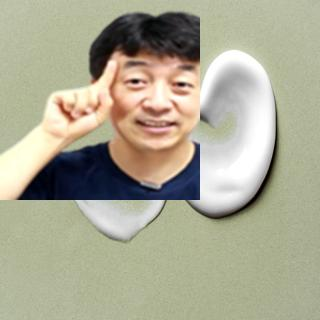IRRITATED: (40, 55, 122, 144)
